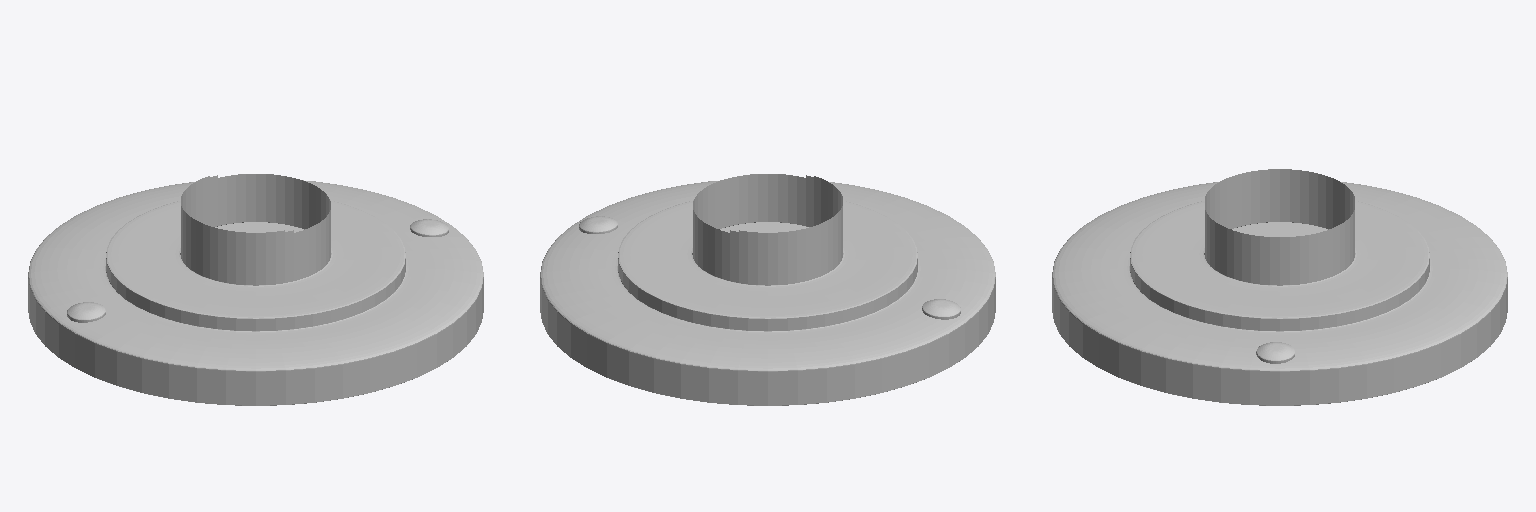
File: button_base.obj
The picture shows the model from 3 angles: view 1: azimuth 30°, elevation 25°; view 2: azimuth 150°, elevation 25°; view 3: azimuth 270°, elevation 25°; orthographic projection.
Visible parts, largest first — view 1: emergencybutton_Circle; view 2: emergencybutton_Circle; view 3: emergencybutton_Circle.
Part boxes in pixels (x1,y1,x2,y2): emergencybutton_Circle: (28,174,483,405); emergencybutton_Circle: (540,174,995,405); emergencybutton_Circle: (1052,169,1507,405).
Bounding box in the file's own units: 0.4143 × 0.1104 × 0.4143.